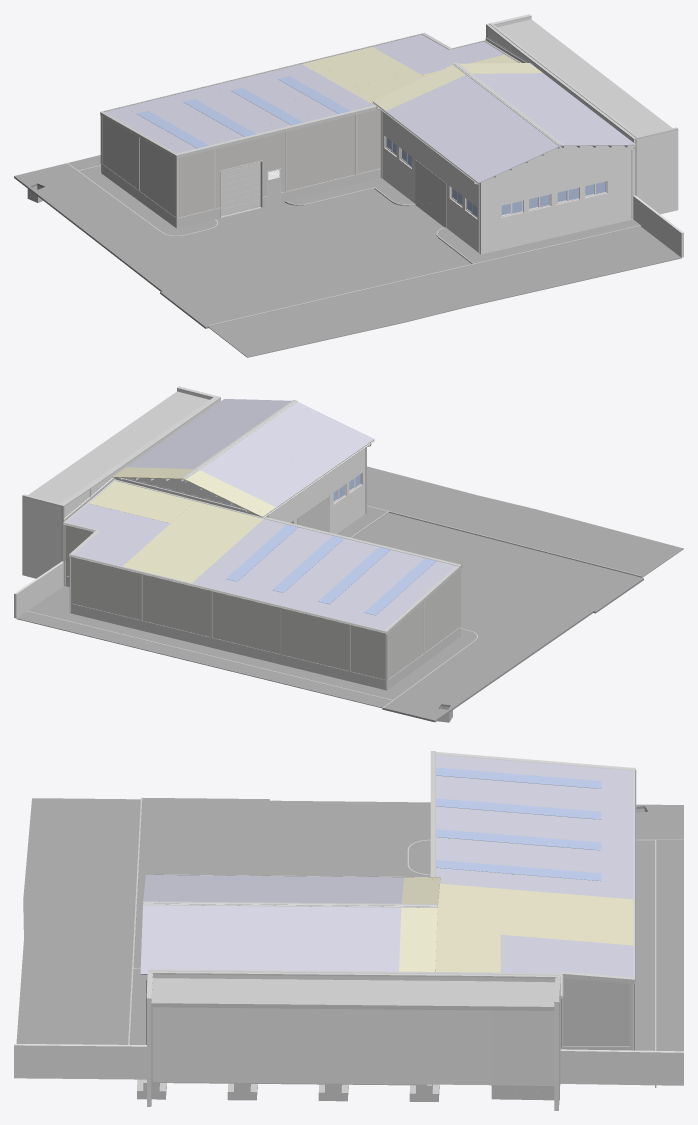
The picture shows the model from 3 angles, top to bottom: view 1: azimuth 30°, elevation 25°; view 2: azimuth 150°, elevation 25°; view 3: azimuth 270°, elevation 25°; orthographic projection. The views are drawn at different scales.
Visible parts, largest first — view 1: IfcSlab/Floor:Асфалт:7270278, IfcSlab/Floor:Трева:7270915, IfcWall/Basic Wall:Варо-циментова мазилка 20mm:7066027, IfcPlate/System Panel:Поркивен панел 80мм. /Полиуретан/:6978 (×13), IfcPlate/System Panel:Поркивен панел 80мм. /Полиуретан/:7003 (×13), IfcPlate/System Panel:Поркивен панел 80мм. /Минерална вата/: (×8), IfcSlab/Floor:Стоманобетонна плоча 250мм:7301622, IfcWall/Basic Wall:Варо-циментова мазилка 20mm:7065424, IfcCurtainWall/Basic Wall:Фасаден панел 100мм. /Минерална ва (×5), IfcWall/Basic Wall:Газобетонен зид 250мм.:7300825, IfcSlab/Floor:Павирана тротоарна настилка:7268684, IfcDoor/Секционна врата:Секционна врата:6980057 (+17 smaller); view 2: IfcSlab/Floor:Асфалт:7270278, IfcPlate/System Panel:Поркивен панел 80мм. /Полиуретан/:6978 (×17), IfcCurtainWall/Basic Wall:Фасаден панел 100мм. /Полиуретан/: (×16), IfcSlab/Floor:Трева:7270915, IfcPlate/System Panel:Поркивен панел 80мм. /Полиуретан/:7003 (×13), IfcPlate/System Panel:Поркивен панел 80мм. /Минерална вата/: (×8), IfcSlab/Floor:Павирана тротоарна настилка:7268341, IfcSlab/Floor:Стоманобетонна плоча 250мм:7301622, IfcSlab/Floor:Трева:7299992, IfcWall/Basic Wall:Варо-циментова мазилка 20mm:7065424, IfcWall/Basic Wall:Стоманобетонов цокъл 80мм.:7005082, IfcWall/Basic Wall:Газобетонен зид 250мм.:7385931 (+17 smaller); view 3: IfcSlab/Floor:Трева:7270915, IfcWall/Basic Wall:Газобетонен зид 250мм.:7300595, IfcPlate/System Panel:Поркивен панел 80мм. /Полиуретан/:6978 (×17), IfcSlab/Floor:Асфалт:7270278, IfcPlate/System Panel:Поркивен панел 80мм. /Полиуретан/:7003 (×14), IfcPlate/System Panel:Поркивен панел 80мм. /Минерална вата/: (×12), IfcSlab/Floor:Стоманобетонна плоча 250мм:7301622, IfcSlab/Floor:Трева:7299992, IfcWall/Basic Wall:Газобетонен зид 250мм.:7300705, IfcSlab/Floor:Павирана тротоарна настилка:7268341, IfcWall/Basic Wall:Газобетонен зид 200мм.:7269167, IfcCurtainWall/Basic Wall:Фасаден панел 100мм. /Полиуретан/: (×4) (+13 smaller).
Part boxes in pixels (<box>): IfcSlab/Floor:Асфалт:7270278: <box>14,163,471,328</box>; IfcSlab/Floor:Трева:7270915: <box>208,227,681,357</box>; IfcWall/Basic Wall:Варо-циментова мазилка 20mm:7066027: <box>481,139,635,254</box>; IfcPlate/System Panel:Поркивен панел 80мм. /Полиуретан/:6978 (×13): <box>105,64,373,153</box>; IfcPlate/System Panel:Поркивен панел 80мм. /Полиуретан/:7003 (×13): <box>386,75,550,177</box>; IfcPlate/System Panel:Поркивен панел 80мм. /Минерална вата/: (×8): <box>302,47,465,111</box>; IfcSlab/Floor:Стоманобетонна плоча 250мм:7301622: <box>497,19,672,136</box>; IfcWall/Basic Wall:Варо-циментова мазилка 20mm:7065424: <box>382,111,481,254</box>; IfcCurtainWall/Basic Wall:Фасаден панел 100мм. /Минерална ва (×5): <box>287,115,355,190</box>; IfcWall/Basic Wall:Газобетонен зид 250мм.:7300825: <box>639,130,678,214</box>; IfcSlab/Floor:Павирана тротоарна настилка:7268684: <box>437,219,639,263</box>; IfcDoor/Секционна врата:Секционна врата:6980057: <box>221,162,260,216</box>; IfcSlab/Floor:Асфалт:7270278: <box>353,513,643,722</box>; IfcPlate/System Panel:Поркивен панел 80мм. /Полиуретан/:6978 (×17): <box>76,512,455,630</box>; IfcCurtainWall/Basic Wall:Фасаден панел 100мм. /Полиуретан/: (×16): <box>72,557,348,670</box>; IfcSlab/Floor:Трева:7270915: <box>367,466,683,577</box>; IfcPlate/System Panel:Поркивен панел 80мм. /Полиуретан/:7003 (×13): <box>200,407,366,507</box>; IfcPlate/System Panel:Поркивен панел 80мм. /Минерална вата/: (×8): <box>123,470,275,583</box>; IfcSlab/Floor:Павирана тротоарна настилка:7268341: <box>28,586,476,699</box>; IfcSlab/Floor:Стоманобетонна плоча 250мм:7301622: <box>28,391,209,503</box>; IfcSlab/Floor:Трева:7299992: <box>16,611,391,708</box>; IfcWall/Basic Wall:Варо-циментова мазилка 20mm:7065424: <box>267,448,365,534</box>; IfcWall/Basic Wall:Стоманобетонов цокъл 80мм.:7005082: <box>70,604,387,690</box>; IfcWall/Basic Wall:Газобетонен зид 250мм.:7385931: <box>22,496,58,578</box>; IfcSlab/Floor:Трева:7270915: <box>16,798,142,1044</box>; IfcWall/Basic Wall:Газобетонен зид 250мм.:7300595: <box>152,974,492,1085</box>; IfcPlate/System Panel:Поркивен панел 80мм. /Полиуретан/:6978 (×17): <box>436,754,633,976</box>; IfcSlab/Floor:Асфалт:7270278: <box>133,798,683,968</box>; IfcPlate/System Panel:Поркивен панел 80мм. /Полиуретан/:7003 (×14): <box>144,905,401,974</box>; IfcPlate/System Panel:Поркивен панел 80мм. /Минерална вата/: (×12): <box>399,883,633,972</box>; IfcSlab/Floor:Стоманобетонна плоча 250мм:7301622: <box>151,978,554,1010</box>; IfcSlab/Floor:Трева:7299992: <box>656,840,683,1051</box>; IfcWall/Basic Wall:Газобетонен зид 250мм.:7300705: <box>492,977,560,1085</box>; IfcSlab/Floor:Павирана тротоарна настилка:7268341: <box>409,840,654,1050</box>; IfcWall/Basic Wall:Газобетонен зид 200мм.:7269167: <box>14,1044,146,1079</box>; IfcCurtainWall/Basic Wall:Фасаден панел 100мм. /Полиуретан/: (×4): <box>563,981,629,1046</box>.
Size of the model in its own units: 40.71 by 8.93 by 36.82.
